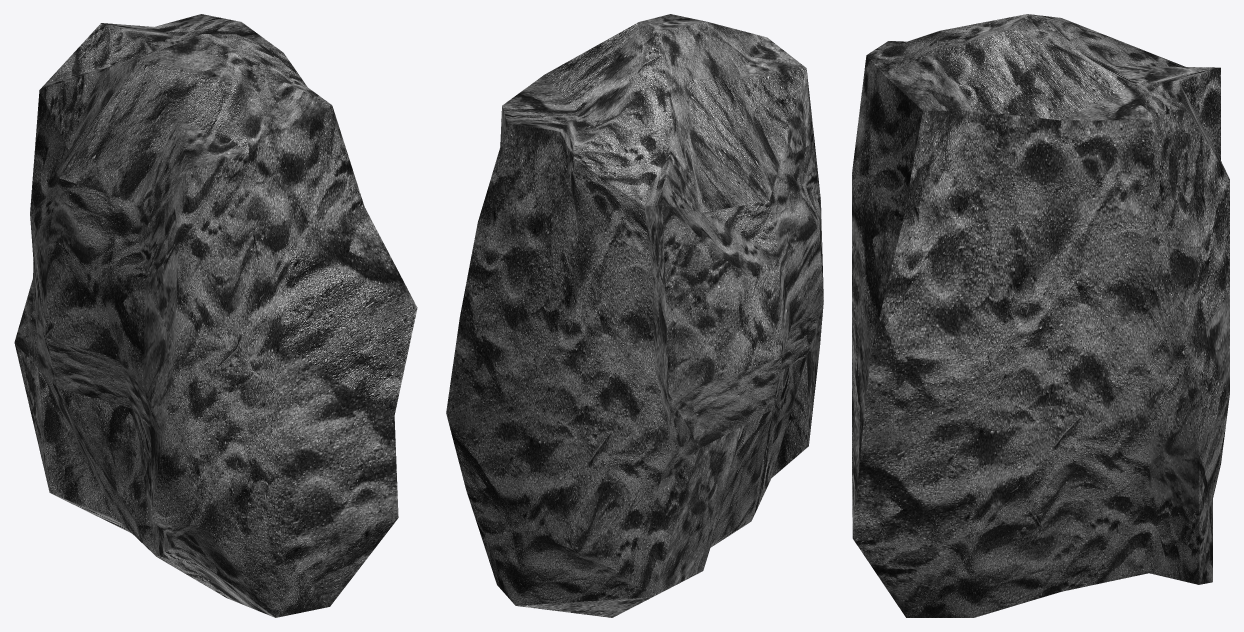
Rendered from Meteo.FBX.
The picture shows the model from 3 angles, left to right: view 1: azimuth 30°, elevation 25°; view 2: azimuth 150°, elevation 25°; view 3: azimuth 270°, elevation 25°; orthographic projection. The views are drawn at different scales.
Visible parts, largest first — view 1: Box001; view 2: Box001; view 3: Box001.
Boxes of the visible parts, box(x1,y1,x2,y2) form: Box001: box(14, 14, 417, 617); Box001: box(446, 14, 823, 617); Box001: box(852, 14, 1229, 617).
Size of the model in its own units: 97.43 by 110 by 182.
Materials: 1 (1 with a texture image).
